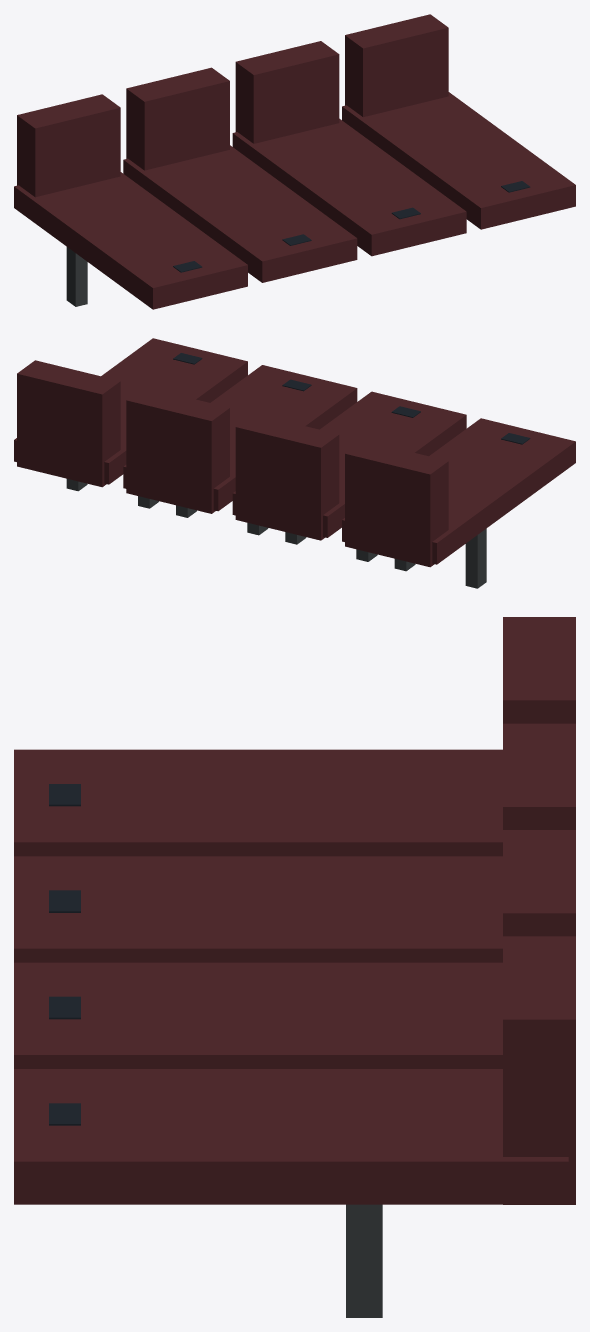
Rendered from bowl_seats.glb.
3 renders of one model, top to bottom at view 1: azimuth 30°, elevation 25°; view 2: azimuth 150°, elevation 25°; view 3: azimuth 270°, elevation 25°, orthographic. The views are drawn at different scales.
Parts seen in each view (by area): view 1: body; view 2: body; view 3: body.
Boxes of the visible parts, x1,y1,x2,y2 form: body: (14,14,575,309); body: (14,338,575,588); body: (14,617,575,1317).
Bounding box in the file's own units: 2.14 × 0.724 × 1.23.
1 material, 1 textured.
